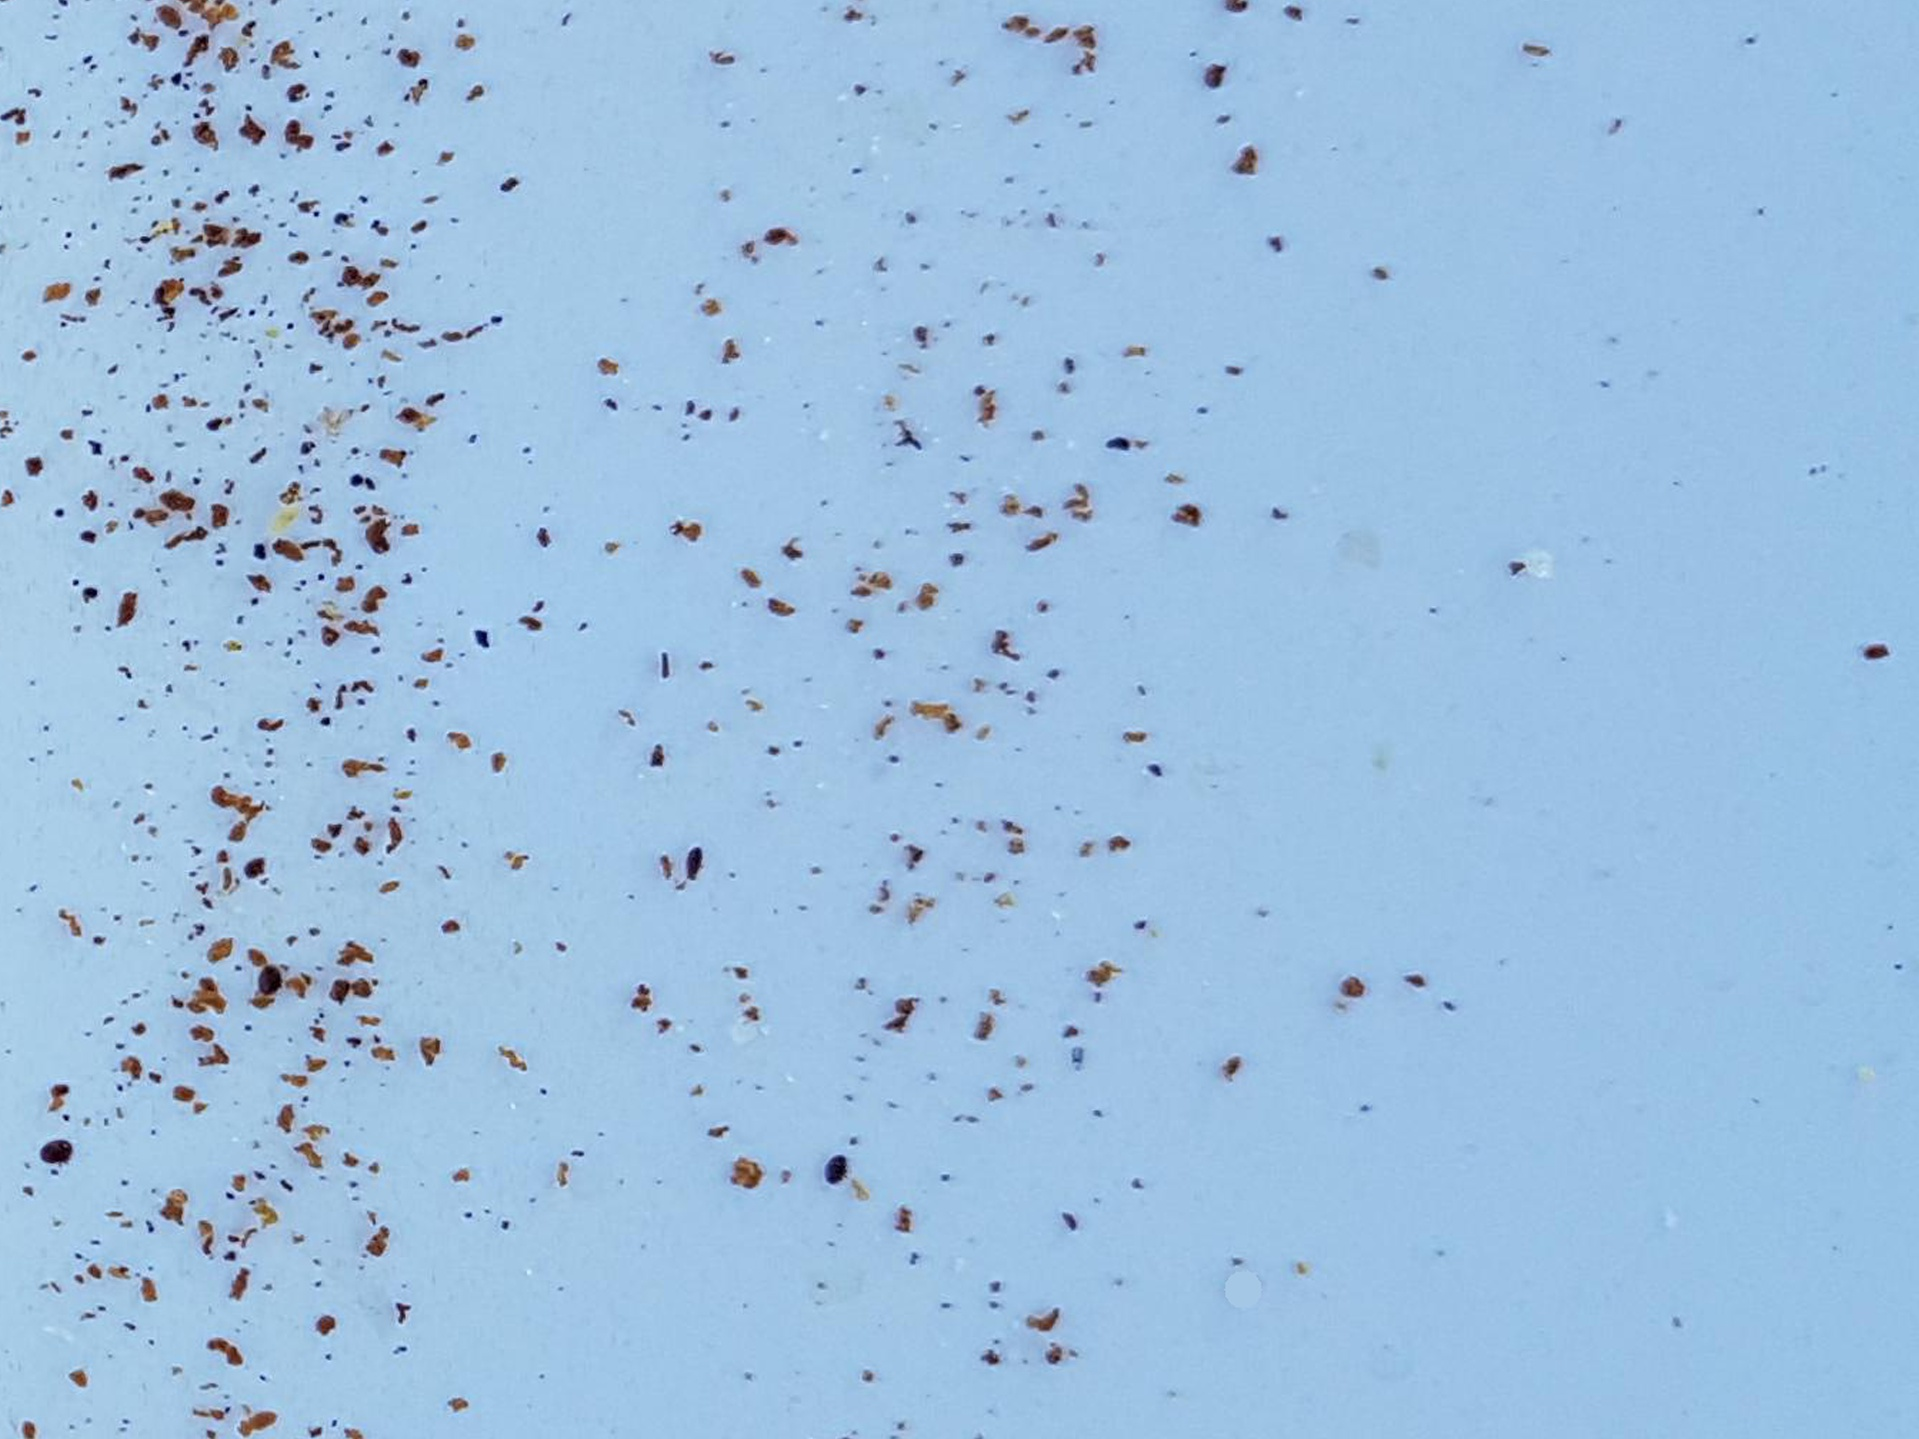Varroa: (41, 1138, 71, 1168), (827, 1158, 854, 1188), (255, 969, 283, 998)
